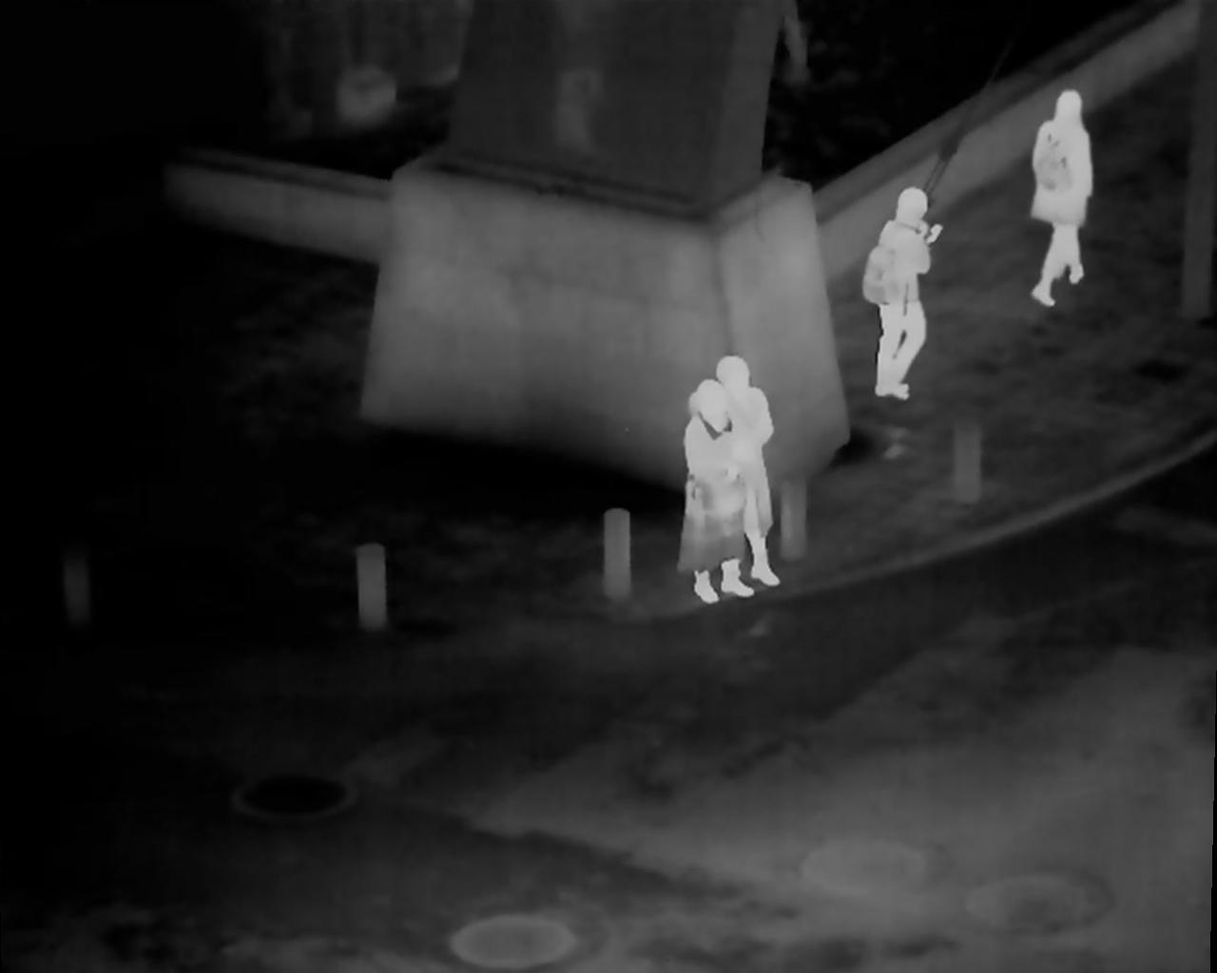person: (866, 185, 942, 405), (715, 356, 781, 589), (683, 381, 751, 601), (1031, 87, 1090, 307)
